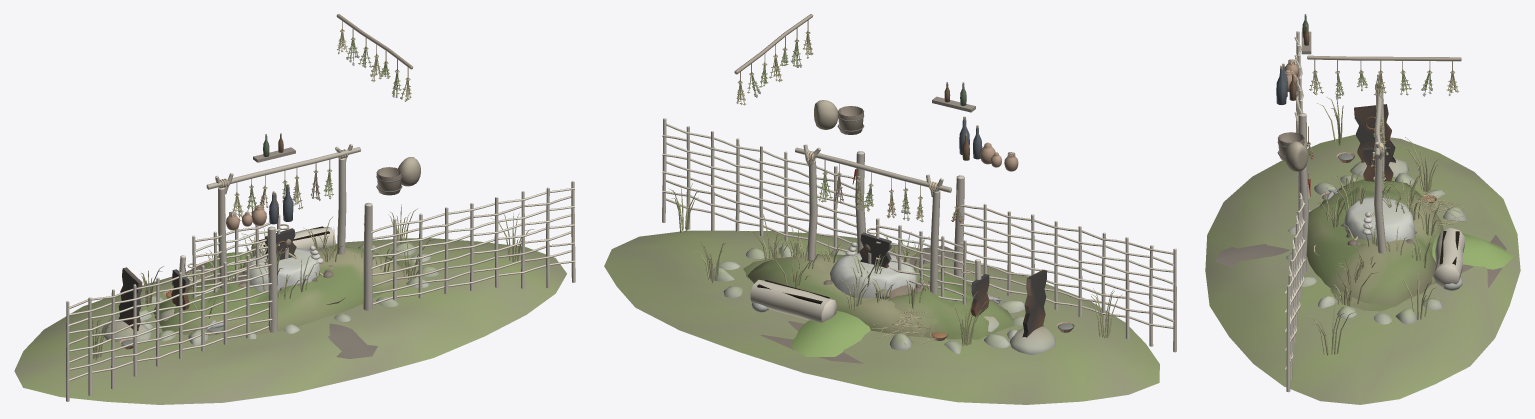
Rendered from swamp_folk.glb.
The picture shows the model from 3 angles, left to right: view 1: azimuth 30°, elevation 25°; view 2: azimuth 150°, elevation 25°; view 3: azimuth 270°, elevation 25°; orthographic projection. The views are drawn at different scales.
Visible parts, largest first — view 1: sf_trade_stone, og_long_barrow, sf_hut_clutter, sf_herb_rack, sf_wicket, sf_goat_stake, og_fresh_mound_a, og_iron_stone; view 2: sf_trade_stone, og_long_barrow, sf_hut_clutter, sf_herb_rack, sf_goat_stake, og_iron_stone, sf_wicket, og_fresh_mound_a; view 3: sf_trade_stone, og_long_barrow, sf_hut_clutter, sf_goat_stake, sf_herb_rack, og_iron_stone, og_fresh_mound_a.
Part boxes in pixels (<box>): sf_trade_stone: <box>14,181,575,404</box>; og_long_barrow: <box>101,216,438,349</box>; sf_hut_clutter: <box>226,14,420,230</box>; sf_herb_rack: <box>206,144,360,304</box>; sf_wicket: <box>187,214,289,298</box>; sf_goat_stake: <box>162,226,335,289</box>; og_fresh_mound_a: <box>159,269,333,334</box>; og_iron_stone: <box>205,228,323,277</box>; sf_trade_stone: <box>604,118,1176,404</box>; og_long_barrow: <box>711,209,1074,354</box>; sf_hut_clutter: <box>734,14,1018,171</box>; sf_herb_rack: <box>795,144,951,294</box>; sf_goat_stake: <box>750,252,945,363</box>; og_iron_stone: <box>791,232,891,356</box>; sf_wicket: <box>866,218,971,305</box>; og_fresh_mound_a: <box>823,274,1006,331</box>; sf_trade_stone: <box>1205,31,1520,404</box>; og_long_barrow: <box>1286,104,1466,324</box>; sf_hut_clutter: <box>1276,14,1461,171</box>; sf_goat_stake: <box>1355,190,1506,290</box>; sf_herb_rack: <box>1314,74,1388,256</box>; og_iron_stone: <box>1344,224,1513,269</box>; og_fresh_mound_a: <box>1321,147,1435,284</box>.
Size of the model in its own units: 6.69 by 3.67 by 3.28.
